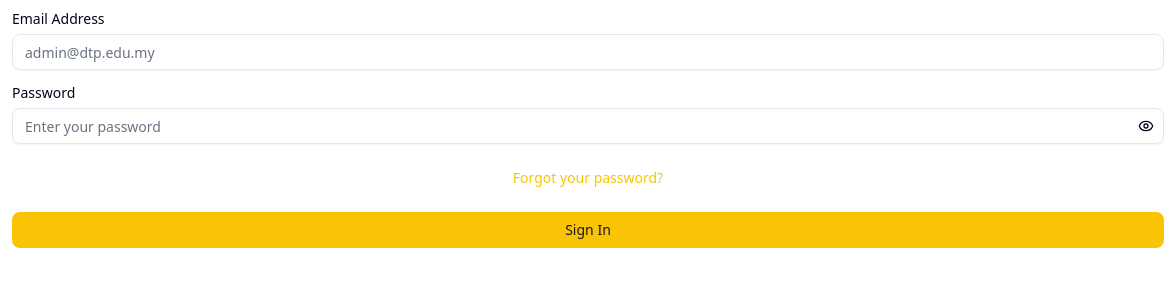
Test: LoginForm › shows validation error for empty password
Type "test@example.com" into the field labelled "Email Address" at (588, 52), box [12, 34, 1164, 70]
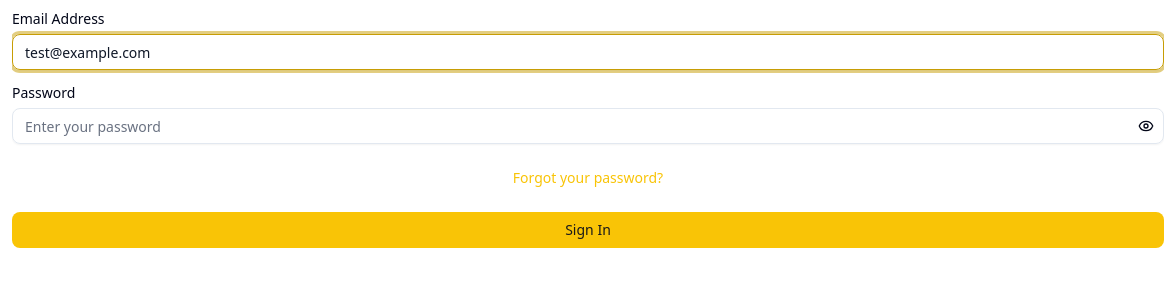
Click the button "Sign In" at (588, 230), box [12, 212, 1164, 248]
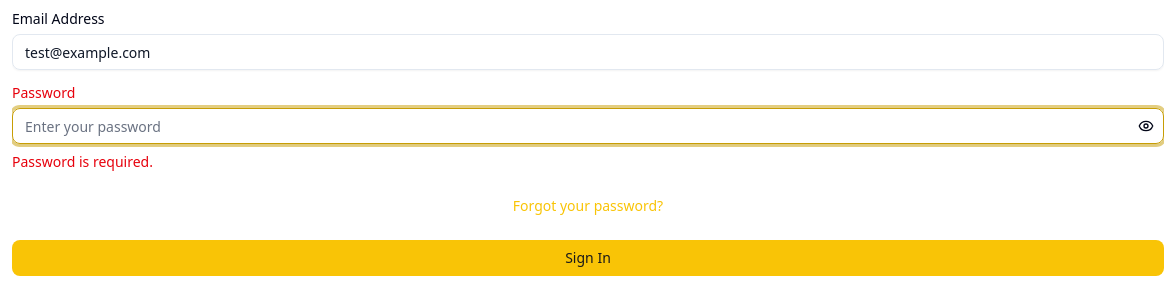
Now the text "Password is required." is shown, box [12, 152, 153, 171]
